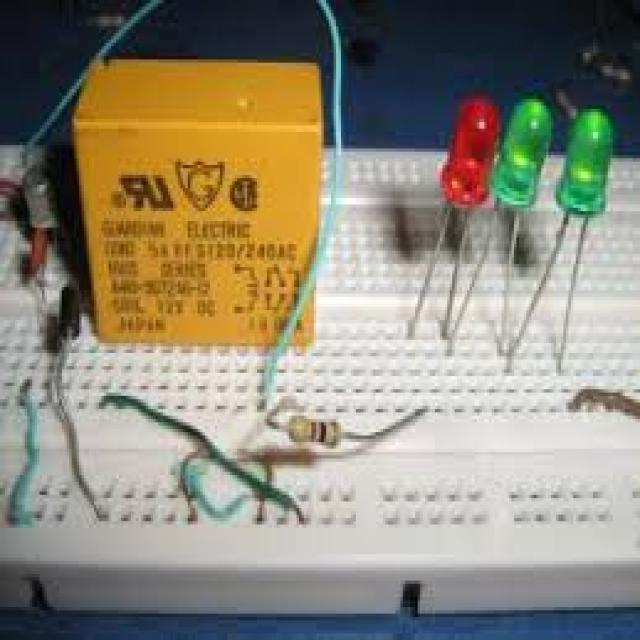Capacitor Electrolitico: (285, 412, 346, 450)
